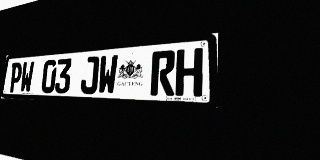0: (41, 59, 57, 93)
3: (54, 58, 72, 94)
H: (175, 48, 203, 97)
J: (80, 56, 100, 94)
P: (8, 62, 23, 93)
R: (150, 50, 176, 96)
W: (97, 54, 118, 95), (19, 61, 35, 93)
